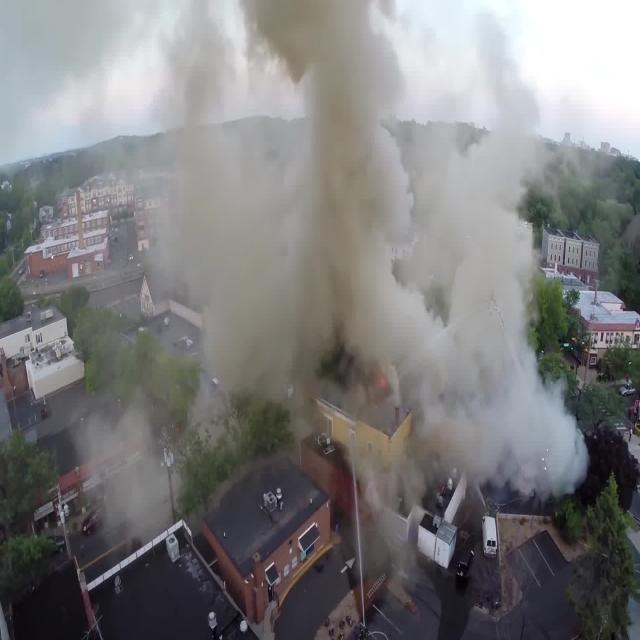Fire: (372, 362, 392, 402)
Smoke: (215, 45, 530, 331), (412, 116, 554, 489)
